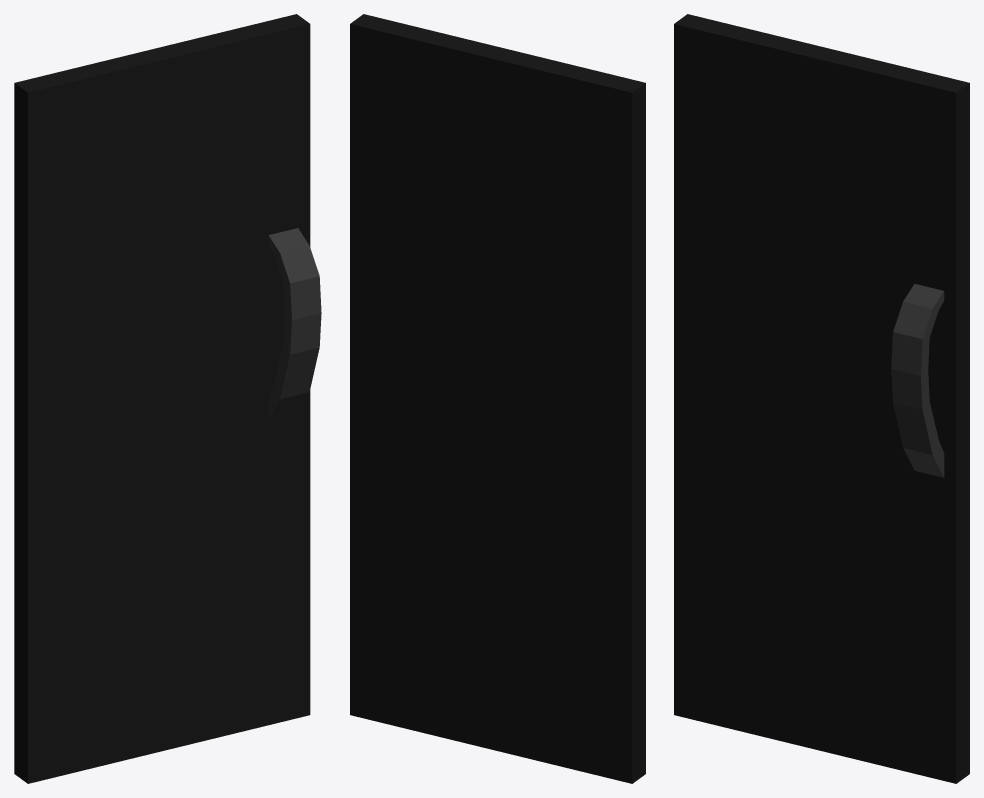
File: Expositor_Glass_Door_3.obj
3 views of the same model, side by side, from view 1: azimuth 30°, elevation 25°; view 2: azimuth 150°, elevation 25°; view 3: azimuth 330°, elevation 25° (orthographic).
Visible parts, largest first — view 1: Expositor_Glass_Door_3; view 2: Expositor_Glass_Door_3; view 3: Expositor_Glass_Door_3.
Part boxes in pixels (<box>): Expositor_Glass_Door_3: <box>14,14,321,783</box>; Expositor_Glass_Door_3: <box>350,14,645,783</box>; Expositor_Glass_Door_3: <box>674,14,969,783</box>.
Bounding box in the file's own units: 0.3287 × 0.7689 × 0.0745.
